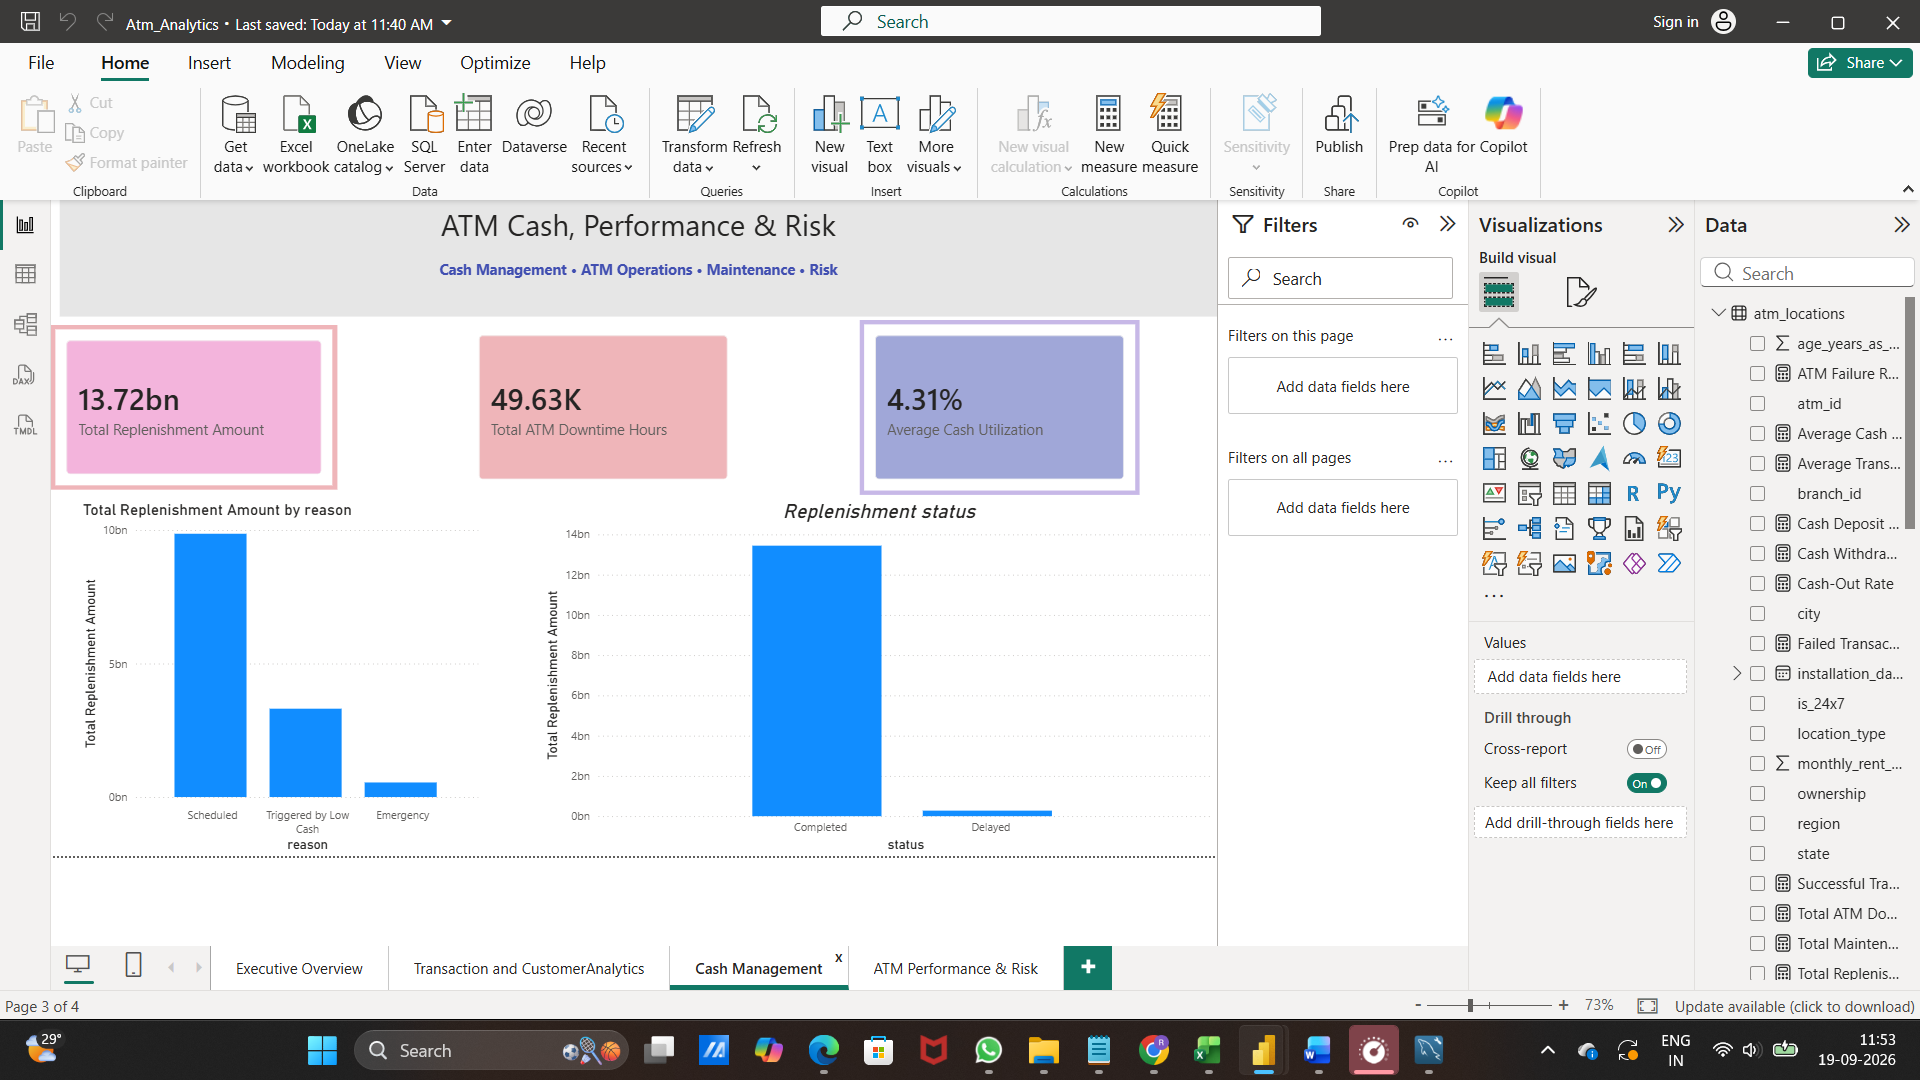

The dashboard page shown, as its layout file describes it:
{"tool":"powerbi","page":{"name":"Cash Management","canvas":[1280,720],"ordinal":2},"visuals":[{"type":"textbox","box":[9.6,0,1270.7,127.6],"z":0},{"type":"cardVisual","fields":{"Data":["atm_locations.Total Replenishment Amount"]},"box":[0,137.2,314.2,181.1],"z":1000},{"type":"cardVisual","fields":{"Data":["atm_locations.Total ATM Downtime Hours"]},"box":[452.8,131.7,307.4,192.1],"z":2000},{"type":"cardVisual","fields":{"Data":["atm_locations.Average Cash Utilization"]},"box":[887.8,131.7,307.4,192.1],"z":3000},{"type":"clusteredColumnChart","fields":{"Category":["cash_replenishments.reason"],"Y":["atm_locations.Total Replenishment Amount"]},"box":[30.2,329.3,444.6,391.1],"z":4000},{"type":"clusteredColumnChart","title":" Replenishment status","fields":{"Category":["cash_replenishments.status"],"Y":["atm_locations.Total Replenishment Amount"]},"box":[537.9,329.3,742.4,391.1],"z":5000}]}

Visuals, with their boxes on the page's 1280x720 design canvas (x1, y1, x2, y2). These are canvas units, not pixel positions in the 1920x1080 screenshot, which may show the page scaled, cropped or inside an application window:
textbox: 10:0:1280:128
cardVisual - atm_locations.Total Replenishment Amount: 0:137:314:318
cardVisual - atm_locations.Total ATM Downtime Hours: 453:132:760:324
cardVisual - atm_locations.Average Cash Utilization: 888:132:1195:324
clusteredColumnChart - cash_replenishments.reason x atm_locations.Total Replenishment Amount: 30:329:475:720
" Replenishment status" clusteredColumnChart: 538:329:1280:720
